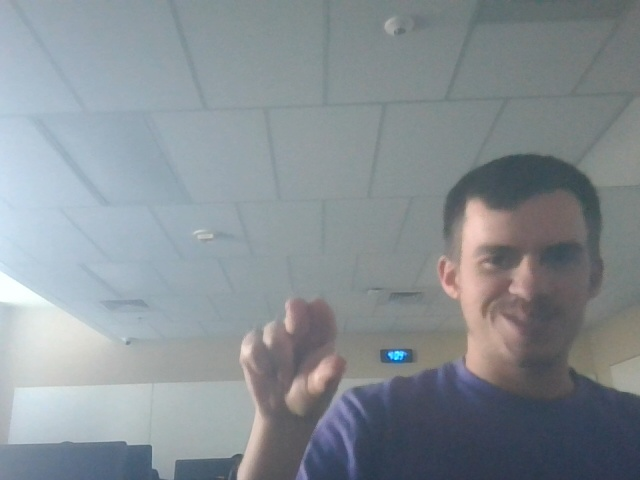no: (232, 292, 361, 424)
